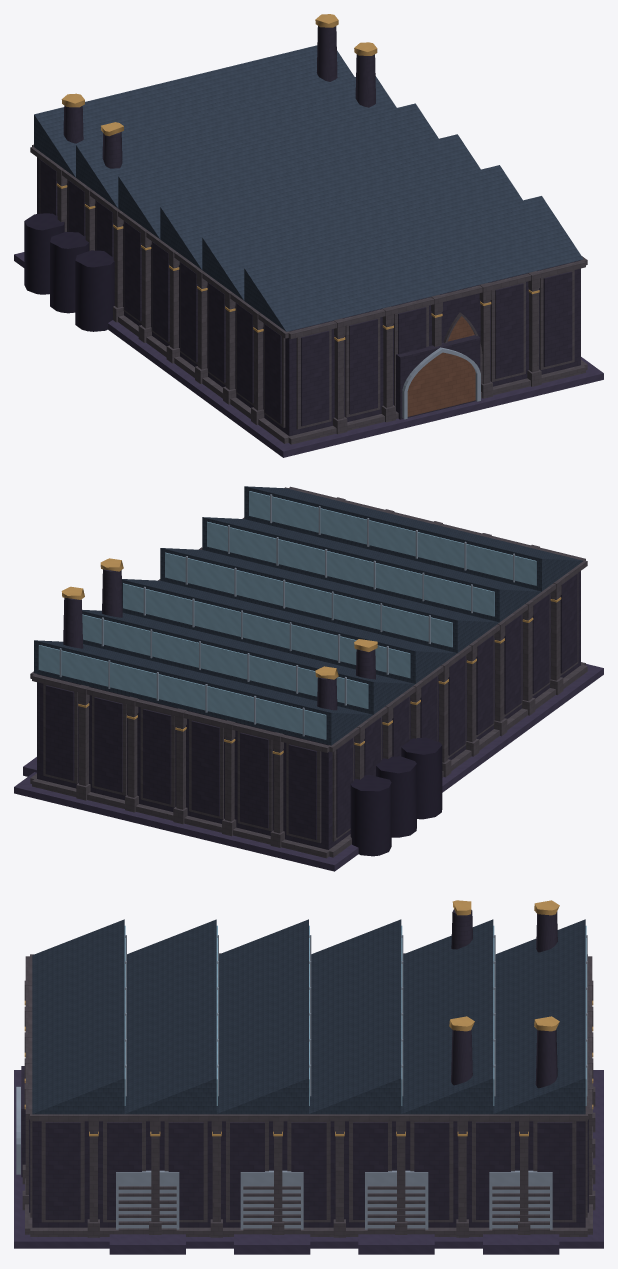
Rendered from inkling-hatchery-vats-far.glb.
3 views of the same model, one above another, from view 1: azimuth 30°, elevation 25°; view 2: azimuth 150°, elevation 25°; view 3: azimuth 270°, elevation 25° (orthographic). The views are drawn at different scales.
Bounding box in the file's own units: 24.2 × 12.52 × 32.
Materials: 9 (9 with a texture image).
